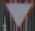Give way: (0, 0, 34, 28)
